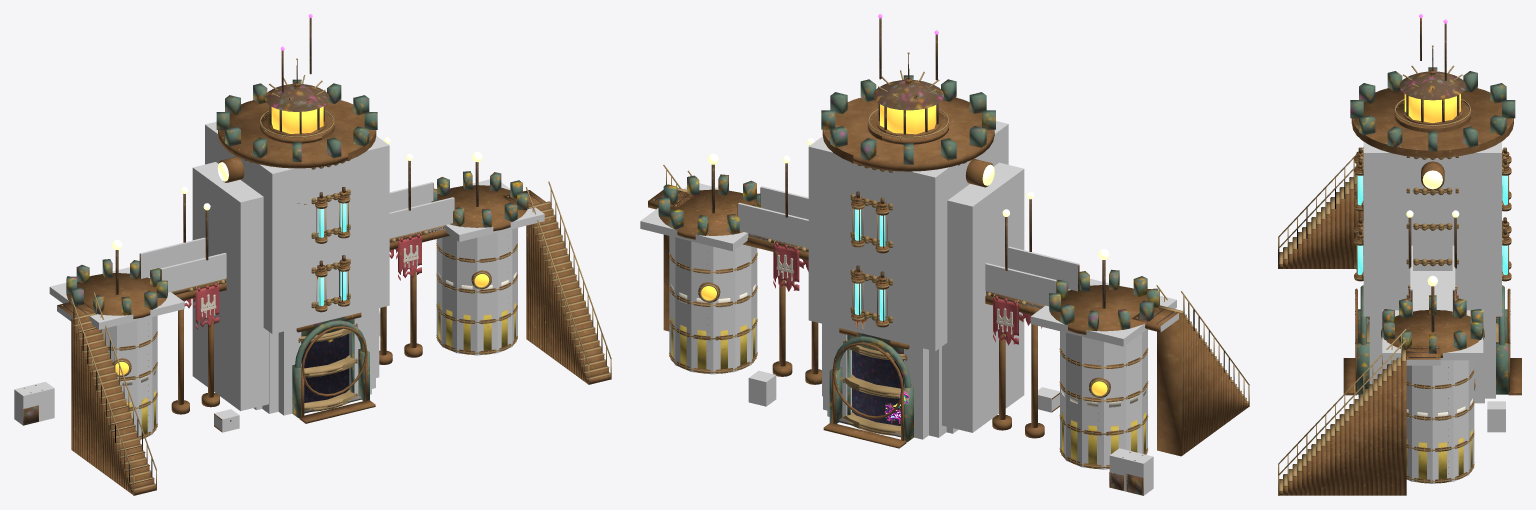
Rendered from border_fort.glb.
3 renders of one model, left to right at view 1: azimuth 30°, elevation 25°; view 2: azimuth 150°, elevation 25°; view 3: azimuth 270°, elevation 25°, orthographic. The views are drawn at different scales.
Visible parts, largest first — view 1: border_fort_body_a, border_fort_body_b, col_bld_border_fort_T_core_16, col_bld_border_fort_pipes, col_bld_border_fort_T_sideR, border_fort_plain, col_bld_border_fort_T_sideL, col_bld_border_fort_walkR_0, col_bld_border_fort_walkL_0, col_bld_border_fort_T_core_11, col_bld_border_fort_walkL_1, col_deck_border_fort_sidetopL (+5 smaller); view 2: border_fort_body_a, col_bld_border_fort_T_core_16, border_fort_body_b, col_bld_border_fort_pipes, col_bld_border_fort_T_sideR, col_bld_border_fort_T_sideL, border_fort_plain, col_bld_border_fort_walkR_1, col_bld_border_fort_walkL_1, col_bld_border_fort_walkL_0, col_bld_border_fort_T_core_4, col_deck_border_fort_sidetopL (+6 smaller); view 3: border_fort_body_b, col_bld_border_fort_T_core_16, border_fort_body_a, col_bld_border_fort_T_sideR, border_fort_plain, col_deck_border_fort_walkR, col_bld_border_fort_T_core_3, col_deck_border_fort_sidetopR, col_bld_border_fort_T_core_12, col_bld_PROP_barrel_i.021, col_bld_border_fort_T_core_2, col_bld_border_fort_pipes.
Boxes of the visible parts, x1,y1,x2,y2 form: border_fort_body_a: (23, 50, 375, 495); border_fort_body_b: (292, 18, 611, 405); col_bld_border_fort_T_core_16: (205, 121, 389, 333); col_bld_border_fort_pipes: (192, 162, 379, 410); col_bld_border_fort_T_sideR: (436, 228, 517, 355); border_fort_plain: (62, 14, 541, 421); col_bld_border_fort_T_sideL: (101, 315, 157, 439); col_bld_border_fort_walkR_0: (389, 197, 454, 238); col_bld_border_fort_walkL_0: (160, 253, 226, 292); col_bld_border_fort_T_core_11: (278, 328, 301, 415); col_bld_border_fort_walkL_1: (139, 237, 205, 278); col_deck_border_fort_sidetopL: (49, 267, 184, 329); border_fort_body_a: (823, 34, 1249, 495); col_bld_border_fort_T_core_16: (808, 121, 1008, 351); border_fort_body_b: (648, 18, 913, 428); col_bld_border_fort_pipes: (822, 162, 1024, 432); col_bld_border_fort_T_sideR: (669, 236, 757, 374); col_bld_border_fort_T_sideL: (1060, 329, 1147, 469); border_fort_plain: (653, 14, 1173, 425); col_bld_border_fort_walkR_1: (738, 202, 808, 247); col_bld_border_fort_walkL_1: (985, 263, 1056, 306); col_bld_border_fort_walkL_0: (1008, 246, 1079, 291); col_bld_border_fort_T_core_4: (904, 345, 928, 439); col_deck_border_fort_sidetopL: (1030, 278, 1176, 346); border_fort_body_b: (1278, 23, 1521, 495); col_bld_border_fort_T_core_16: (1363, 141, 1501, 316); border_fort_body_a: (1278, 18, 1521, 392); col_bld_border_fort_T_sideR: (1391, 360, 1474, 483); border_fort_plain: (1357, 14, 1507, 420); col_deck_border_fort_walkR: (1413, 271, 1452, 311); col_bld_border_fort_T_core_3: (1485, 316, 1495, 398); col_deck_border_fort_sidetopR: (1382, 310, 1483, 360); col_bld_border_fort_T_core_12: (1369, 316, 1380, 383); col_bld_PROP_barrel_i.021: (1487, 401, 1505, 432); col_bld_border_fort_T_core_2: (1474, 316, 1484, 403); col_bld_border_fort_pipes: (1381, 317, 1479, 395).
Bounding box in the file's own units: 21.72 × 15.29 × 9.17.
19 materials, 7 textured.
